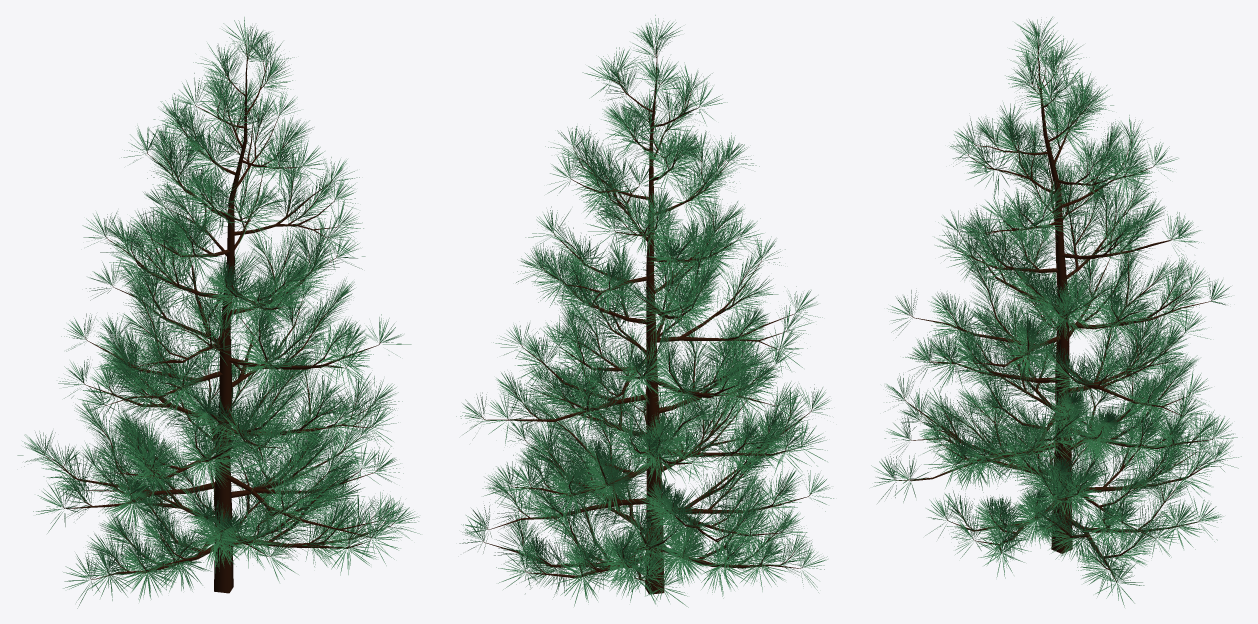
The model's file is cam-agaci.fbx.
3 views of the same model, side by side, from view 1: azimuth 30°, elevation 25°; view 2: azimuth 150°, elevation 25°; view 3: azimuth 270°, elevation 25° (orthographic). The views are drawn at different scales.
Visible parts, largest first — view 1: leaves; view 2: leaves; view 3: leaves.
Boxes of the visible parts, x1=… form: leaves: x1=17, y1=17, x2=420, y2=608; leaves: x1=456, y1=15, x2=833, y2=607; leaves: x1=871, y1=17, x2=1241, y2=607.
Bounding box in the file's own units: 236 × 381 × 240.
